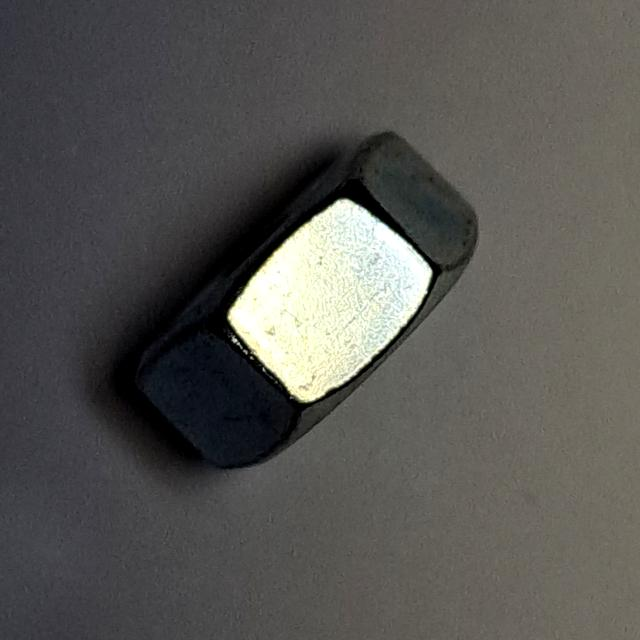Side_Excellent: (109, 115, 488, 488)
